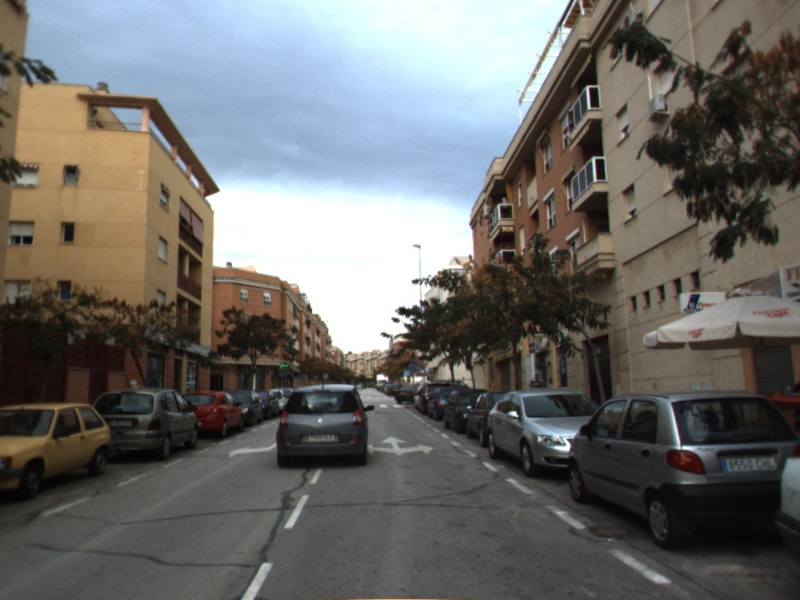STRAIGHT_LEFT_RIGHT: (366, 433, 437, 458)
